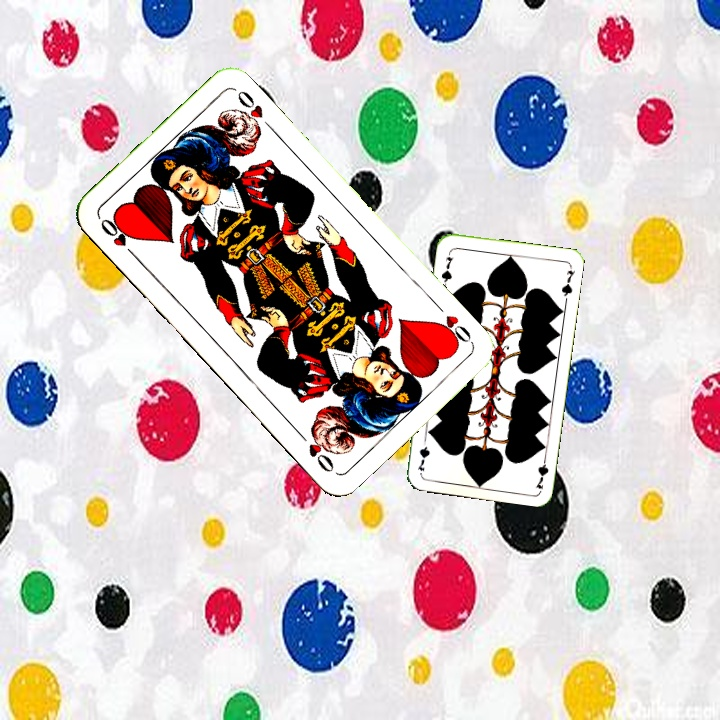G7: (531, 450, 551, 491), (437, 247, 456, 288)
HO: (430, 298, 475, 350), (96, 214, 140, 262)
